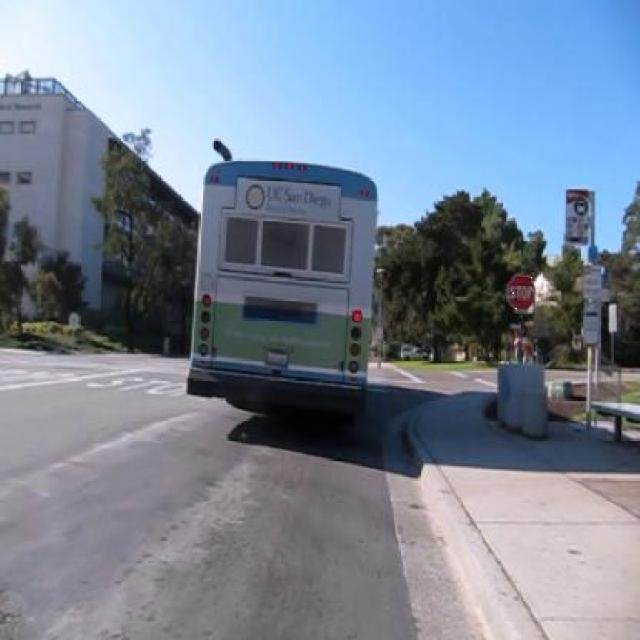stop: (506, 274, 537, 314)
